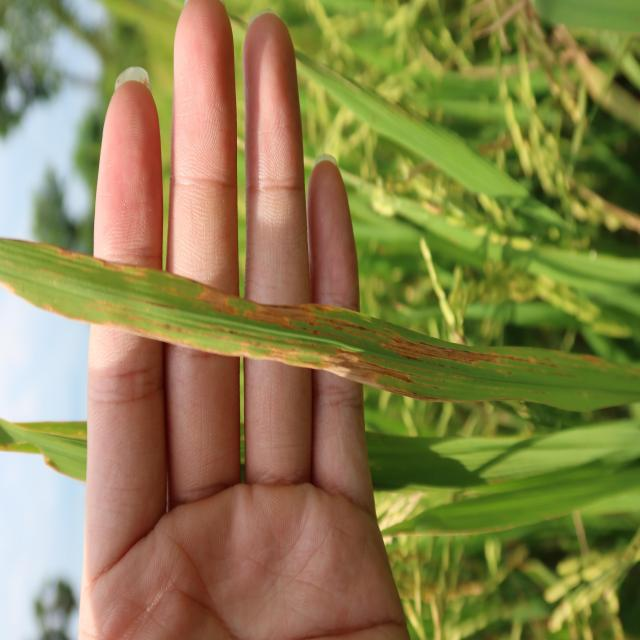Dom soc vi khuan: (0, 239, 640, 411)
